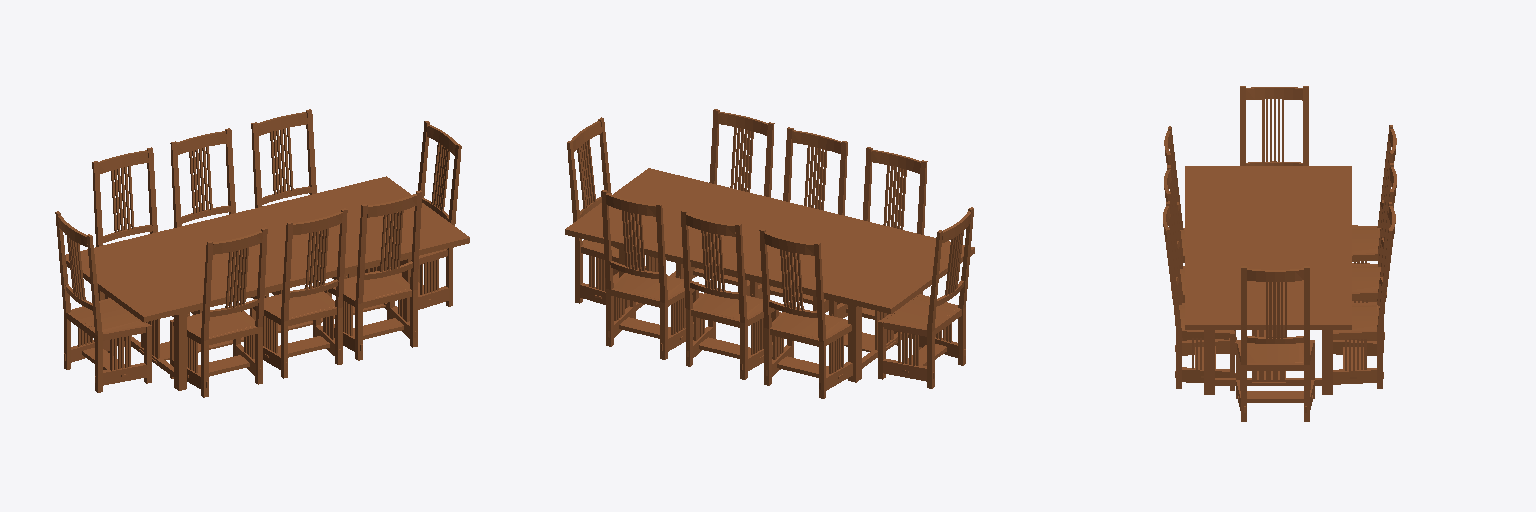
The model's file is DiningSet7.obj.
3 renders of one model, left to right at view 1: azimuth 30°, elevation 25°; view 2: azimuth 150°, elevation 25°; view 3: azimuth 270°, elevation 25°, orthographic.
Size of the model in its own units: 126 by 50.09 by 67.27.